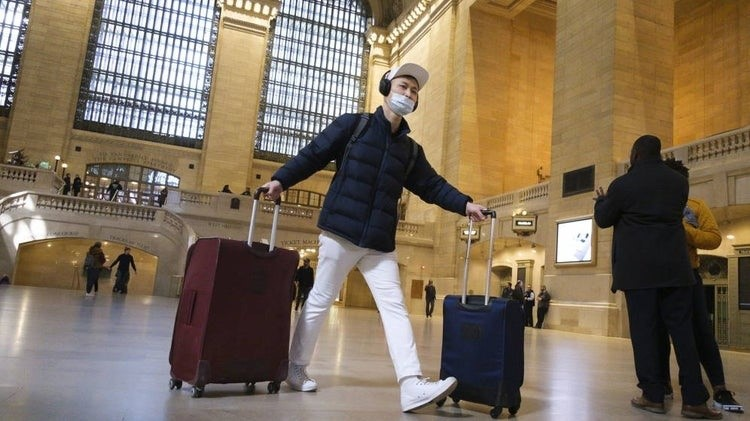face_with_mask: (373, 58, 430, 129)
